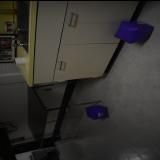cube: (114, 20, 154, 44), (84, 104, 110, 120)
